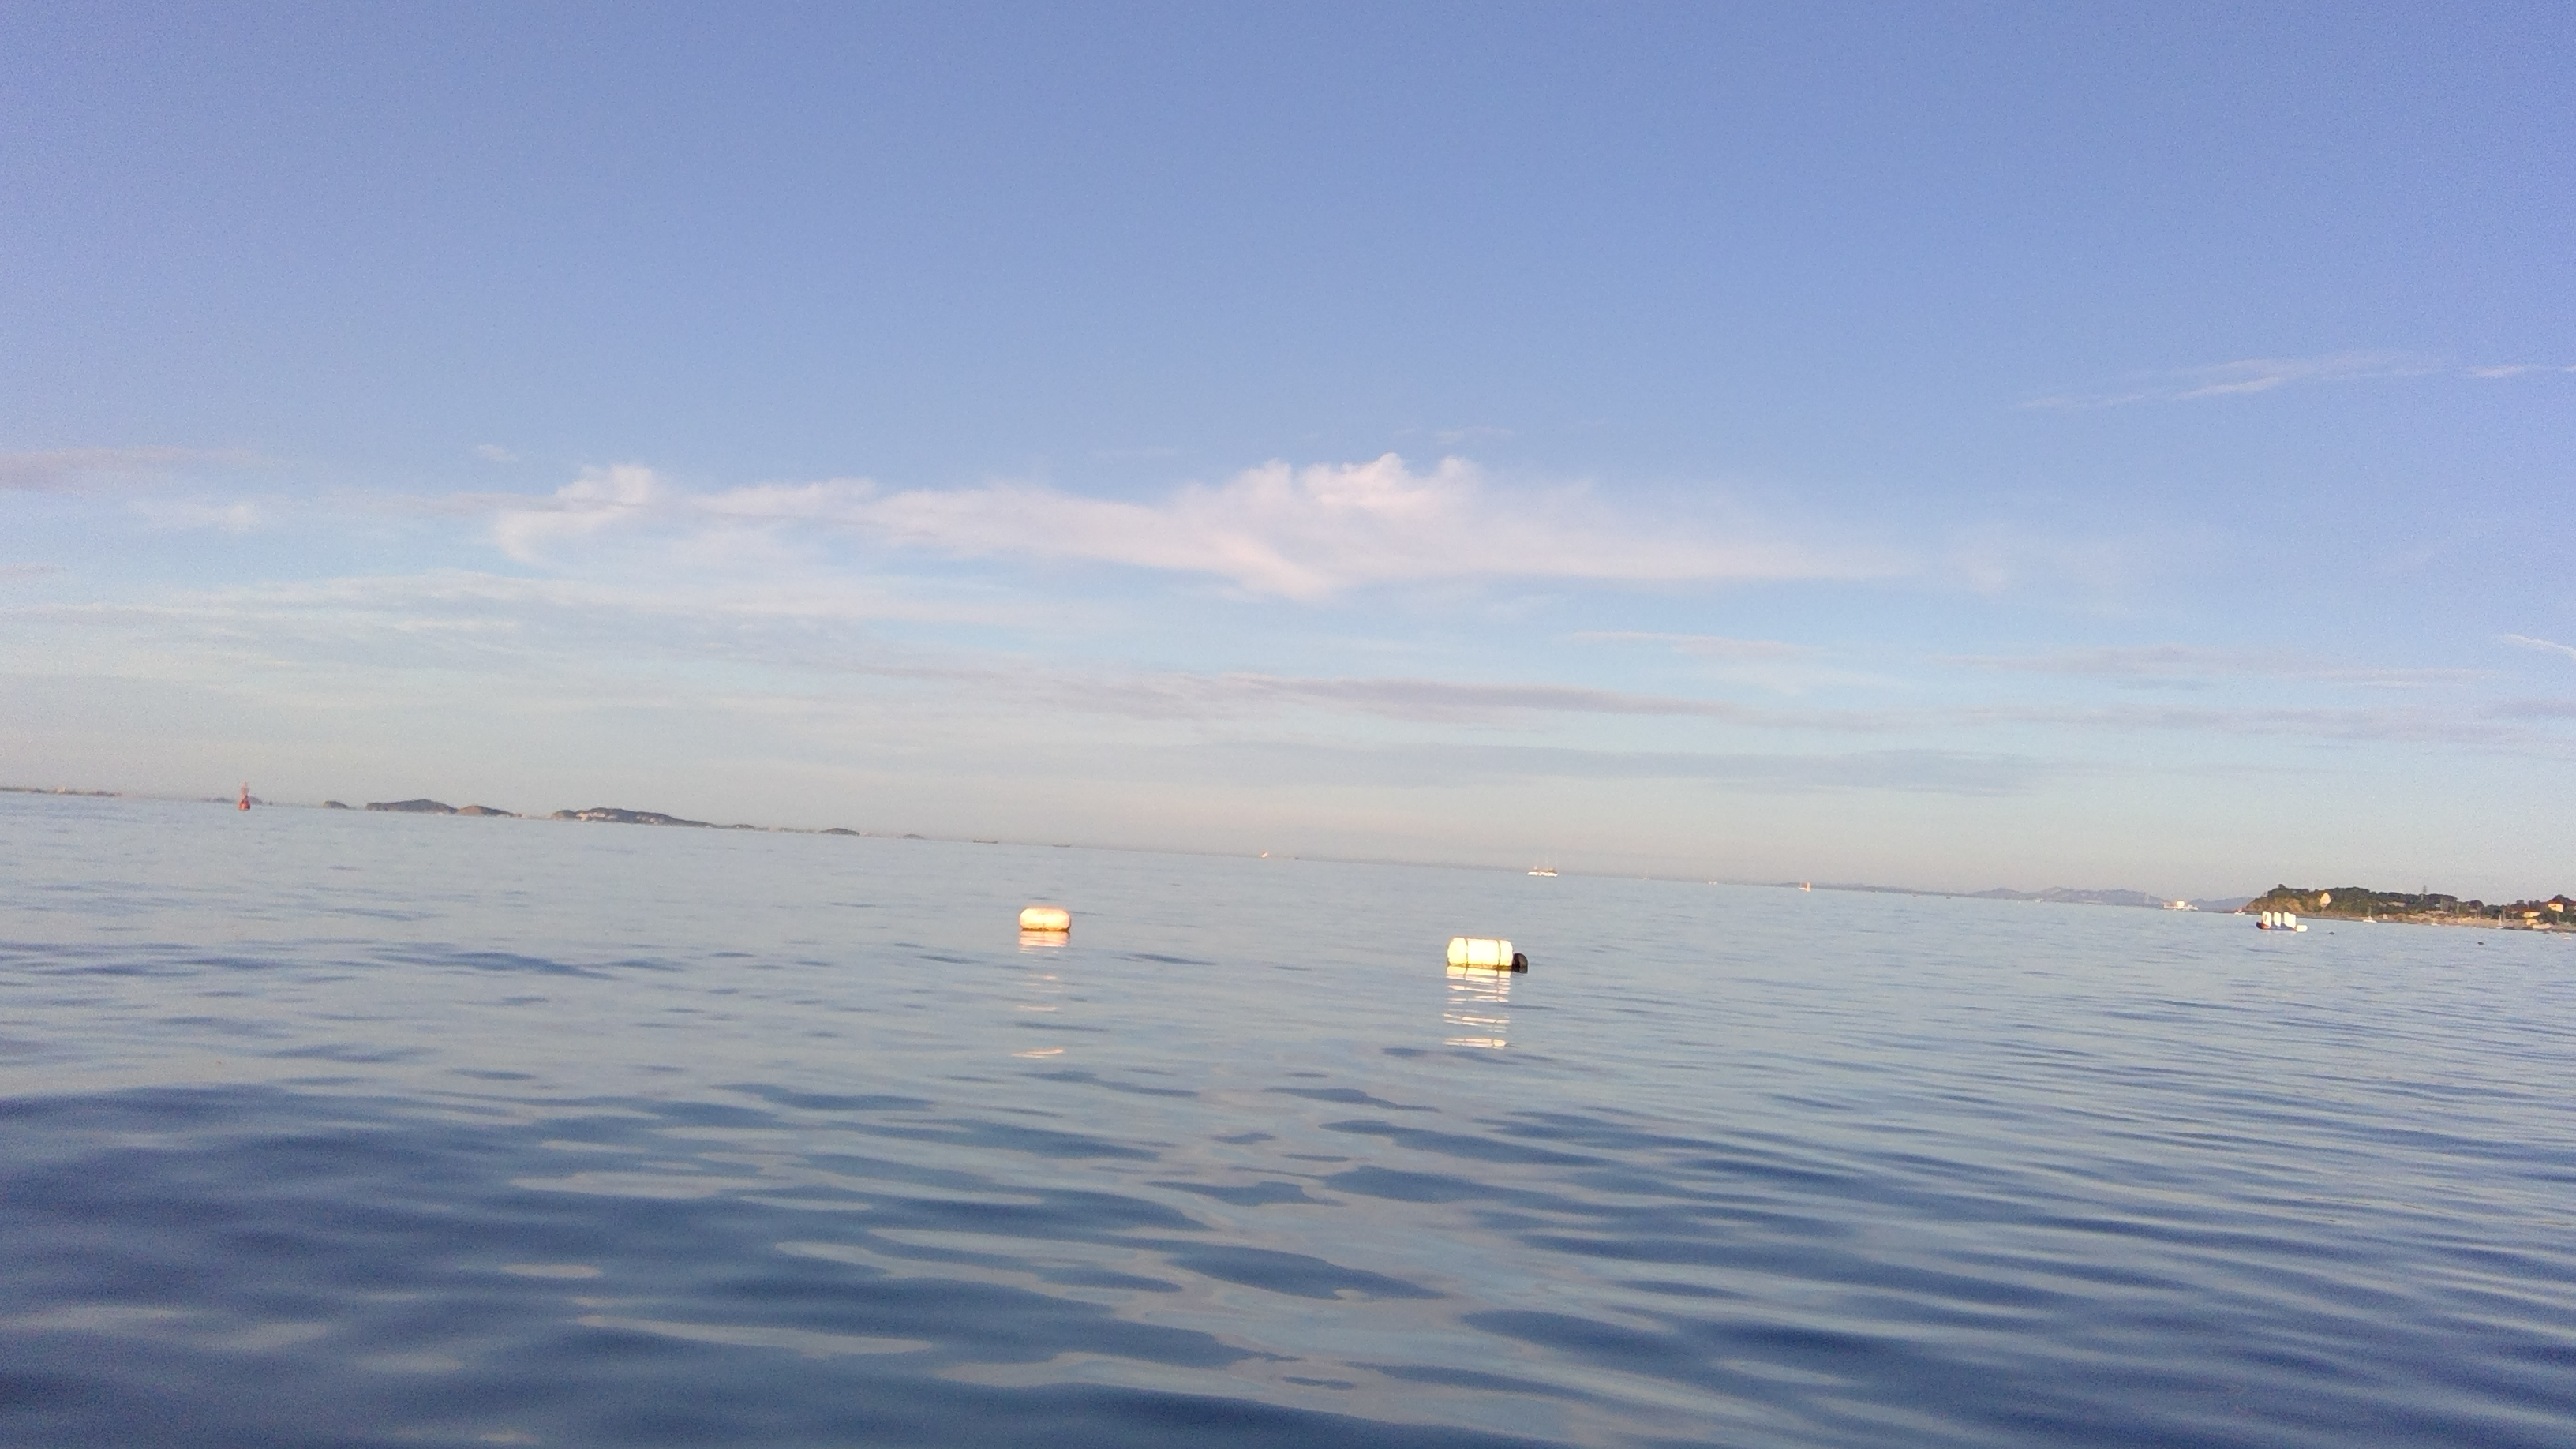ball: (1444, 925, 1525, 980), (1017, 895, 1072, 945)
